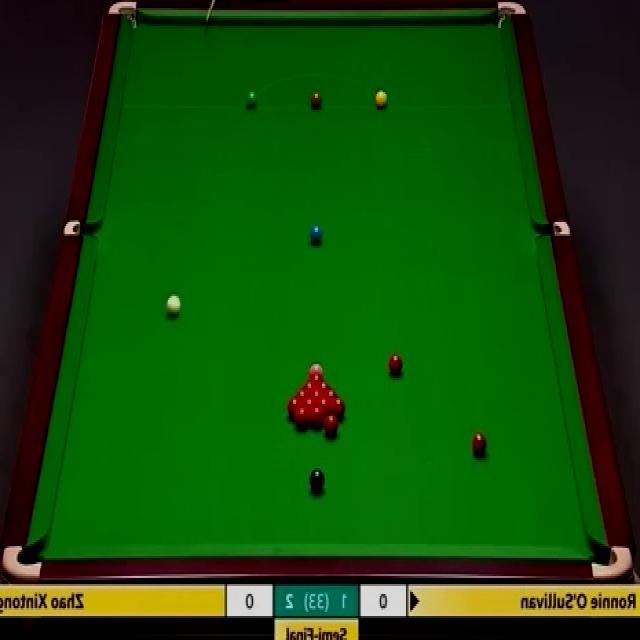black-ball: (309, 467, 325, 493)
blue-ball: (310, 224, 323, 242)
brown-ball: (310, 92, 323, 109)
green-ball: (244, 88, 258, 112)
pink-ball: (308, 363, 323, 380)
red-ball: (470, 430, 488, 459), (294, 405, 309, 431), (329, 396, 345, 420), (323, 412, 339, 434), (388, 353, 402, 378), (300, 398, 318, 416), (309, 405, 323, 426), (287, 397, 302, 416), (294, 387, 310, 402), (322, 387, 338, 401), (318, 398, 329, 418), (309, 388, 323, 402), (304, 378, 316, 394), (316, 380, 330, 392)
white-ball: (166, 294, 182, 316)
yellow-ball: (374, 89, 388, 110)
